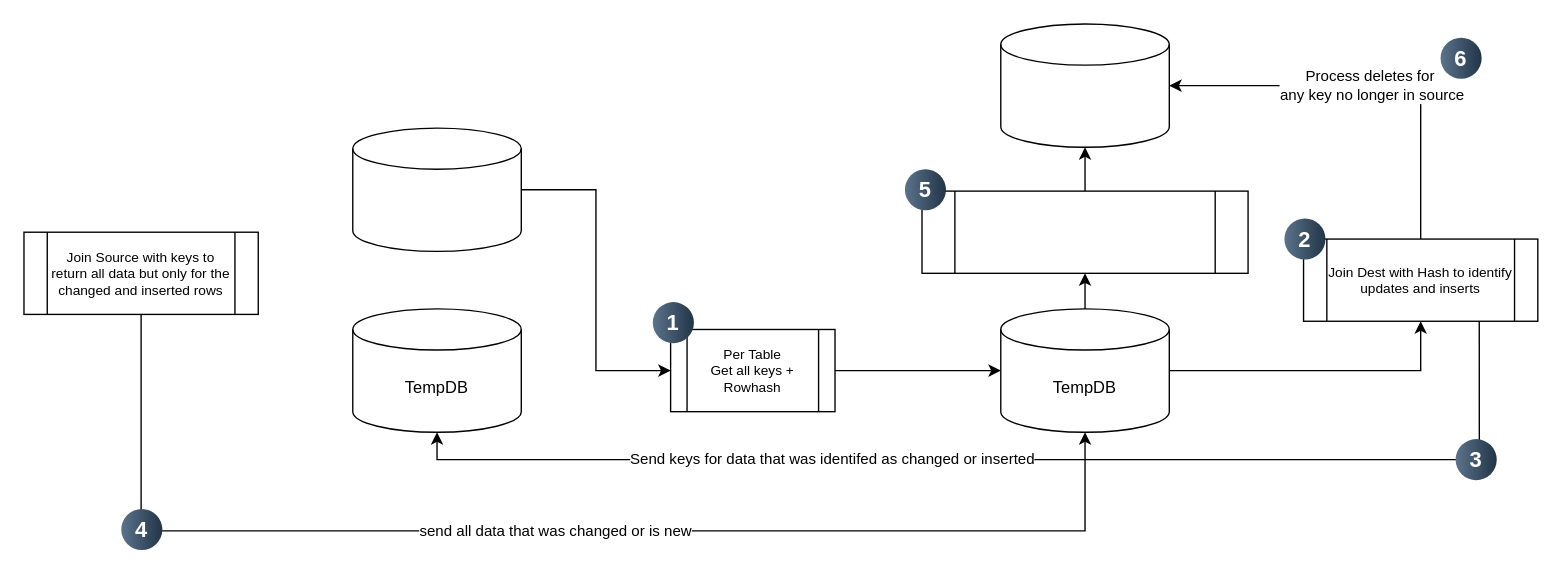
The diagram is 1562 pixels wide and 574 high, and some of its shapes have lost their labels. The shapes that lost their labels are listed below. From the top down, each one's centre as x and y in pixels, then its label:
At point (1084, 85): "EDW_Stage".
At point (436, 189): "EnertiaLive".
At point (1084, 231): "Only update and insert data confirmed changed or new from preceding process".
